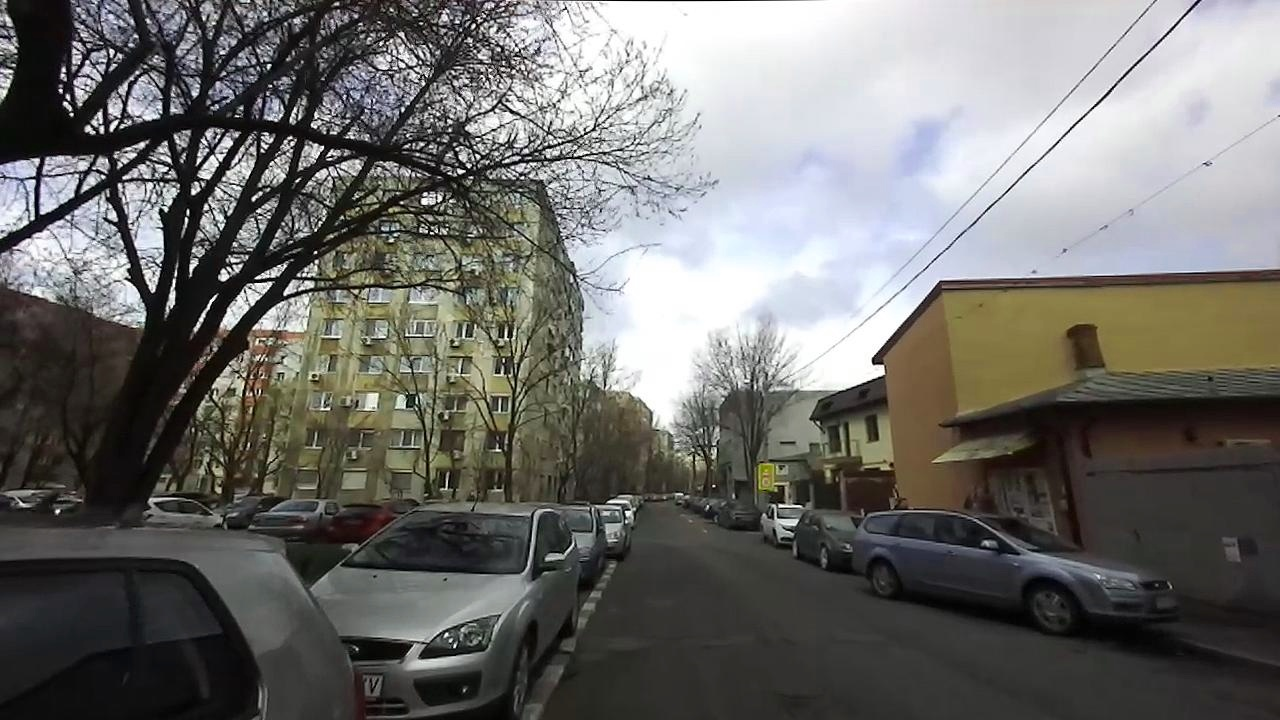pothole: (772, 687, 836, 718), (561, 668, 577, 681)
